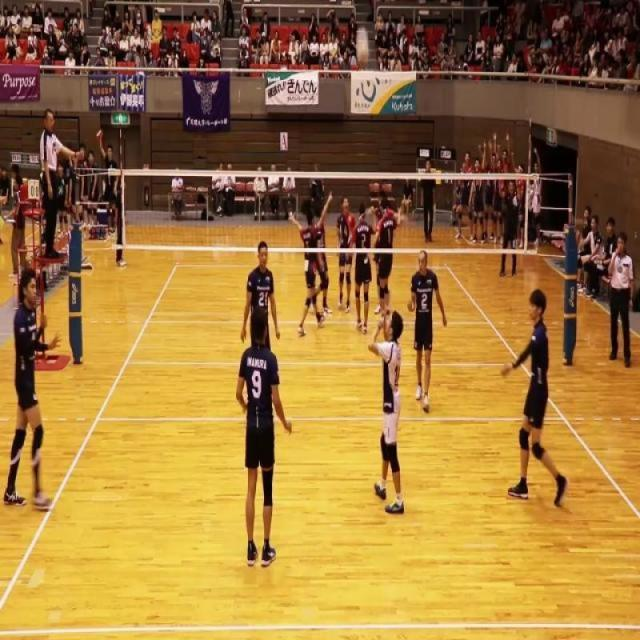volleyball: (355, 27, 369, 68)
